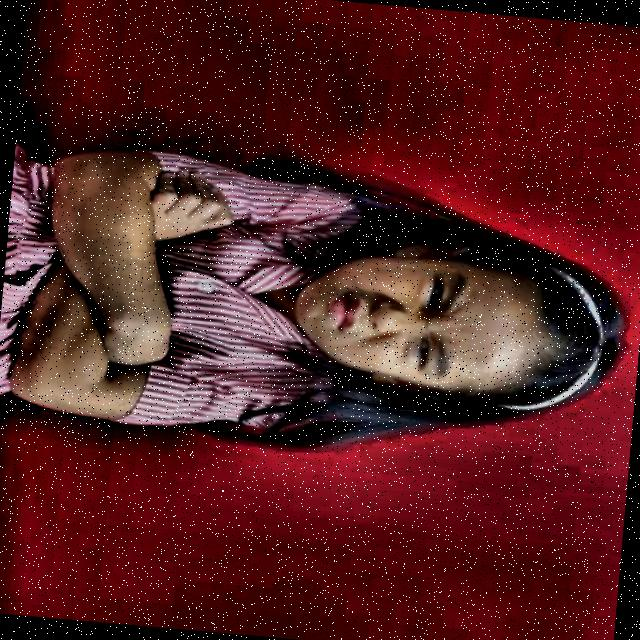angry: (283, 231, 568, 418)
